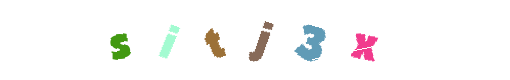3: (271, 0, 351, 80)
I: (147, 0, 227, 80)
J: (215, 0, 295, 80)
S: (80, 0, 160, 80)
T: (196, 0, 276, 80)
X: (324, 0, 404, 80)
